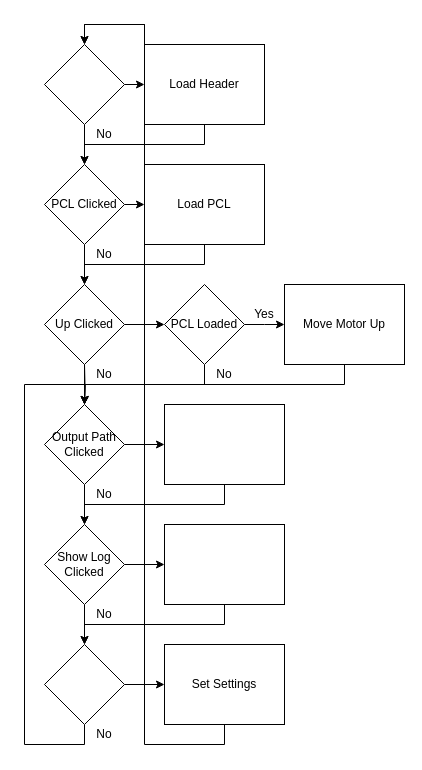
Some shapes in this 422 by 770 pixel diagram are drawn without their labels. The box of each missing label's shape, as (x1, y1, x2, y2) in pixels:
Header Clicked: (44, 44, 124, 124)
Set Output Path: (164, 404, 284, 484)
Settings Clicked: (44, 644, 124, 724)
Show Log: (164, 524, 284, 604)
